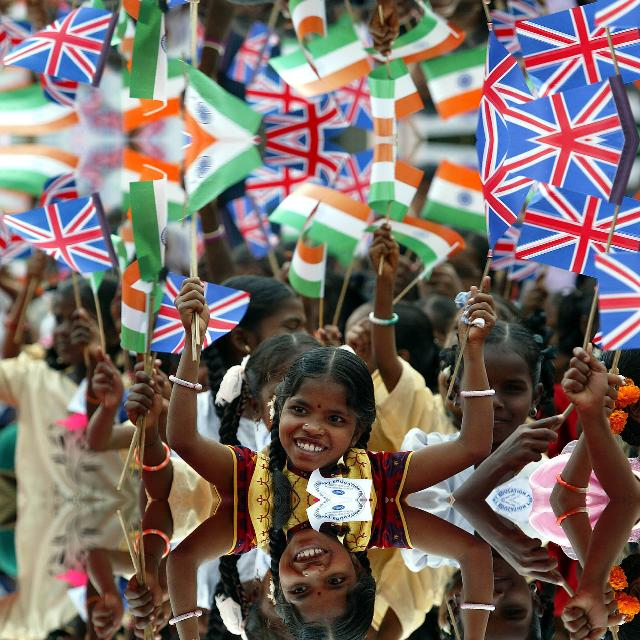person: (228, 338, 432, 500), (228, 500, 432, 640)
